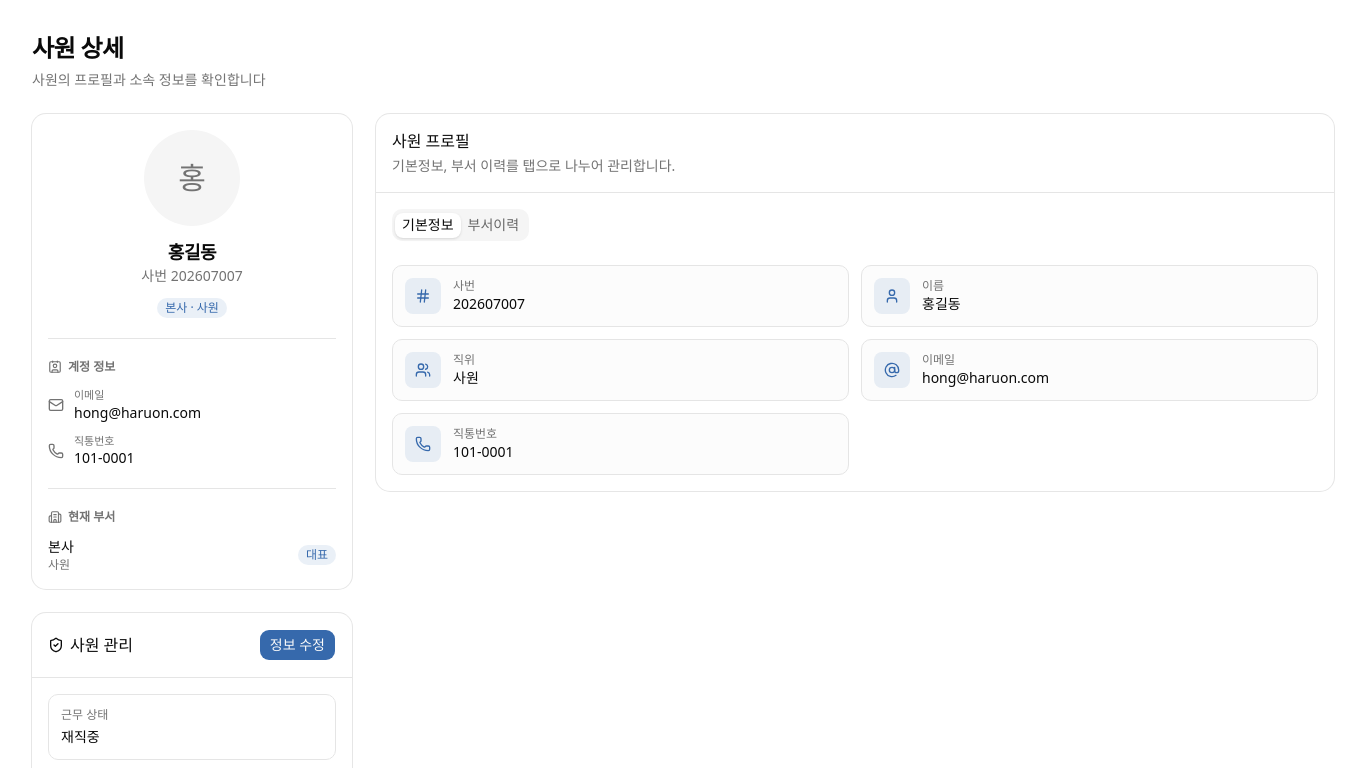
Test case: EmployeeDetailPage - 사원 관리 섹션 역할별 렌더 › HR 역할 뷰어는 관리 섹션이 렌더되고 HrManagedInfoDialog용 폼 필드가 나타난다
Check: the text "사원 관리" is shown, box [48,634,133,656]
Click the button "정보 수정" at (297, 645), box [259,629,336,661]
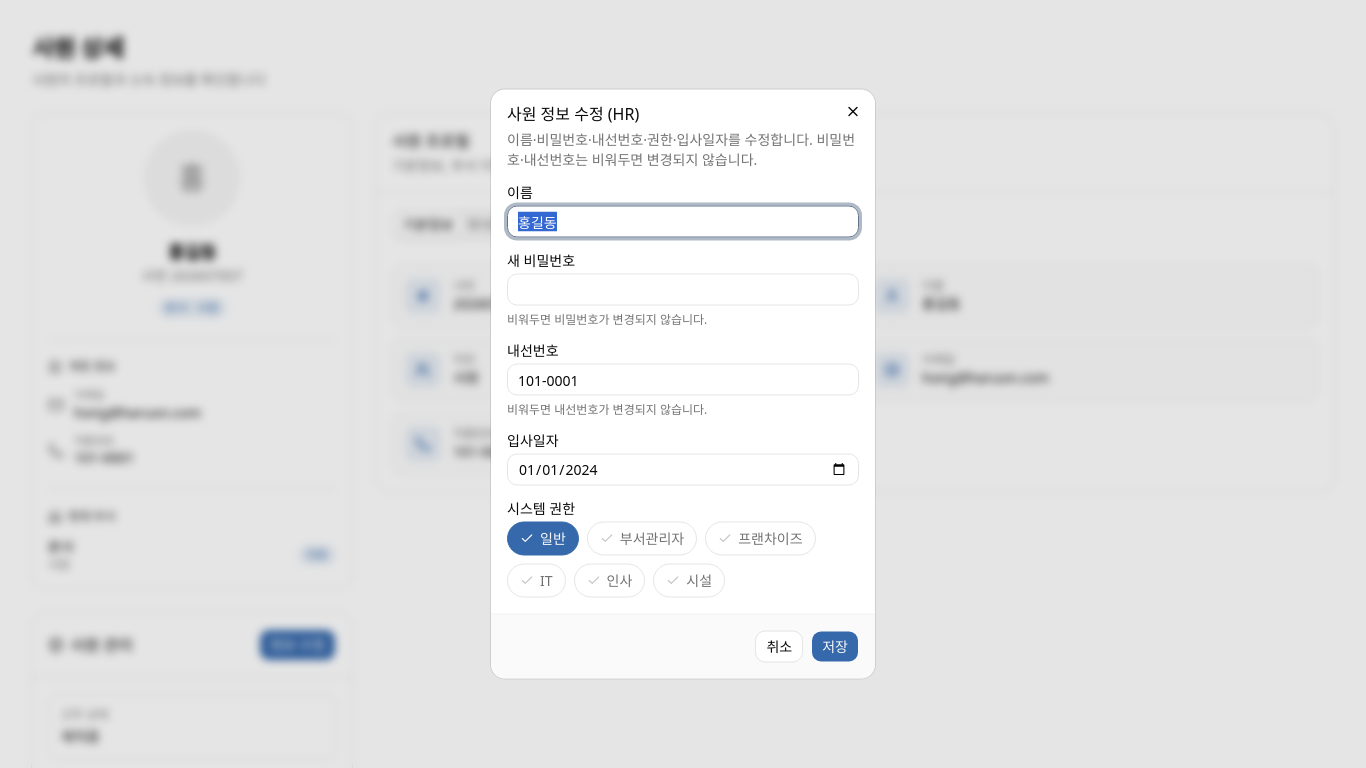
Check: the heading "사원 정보 수정 (HR)" is shown, box [507,102,639,124]
Check: the field labelled "이름" is shown, box [507,206,859,238]
Check: the password field labelled "새 비밀번호" is shown, box [507,274,859,306]
